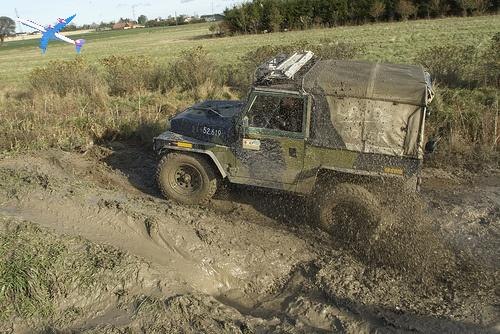tampered: (17, 15, 86, 53)
